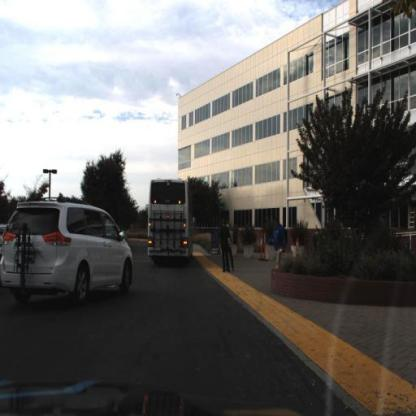car: (2, 195, 136, 317)
pedestrian: (270, 216, 289, 273), (217, 217, 233, 277), (226, 220, 238, 274), (313, 226, 321, 252)
truck: (145, 177, 198, 265)
